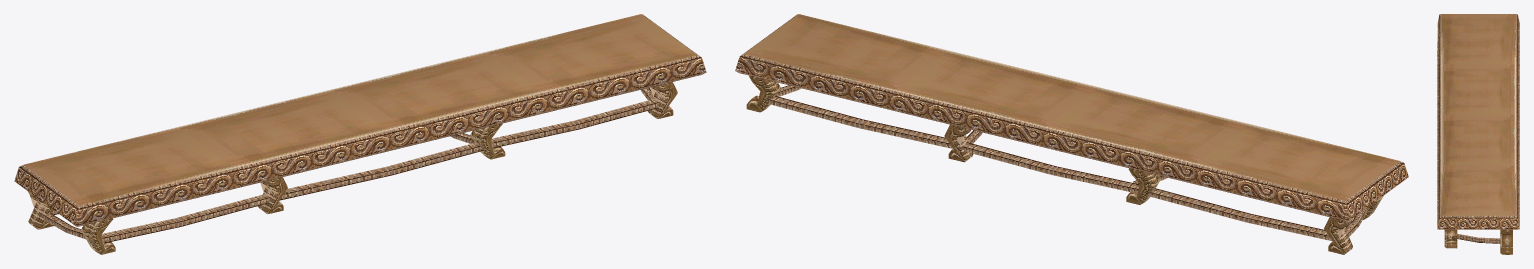
The model's file is tuku9.glb.
3 views of the same model, side by side, from view 1: azimuth 30°, elevation 25°; view 2: azimuth 150°, elevation 25°; view 3: azimuth 270°, elevation 25° (orthographic). The views are drawn at different scales.
Parts seen in each view (by area): view 1: tuku9; view 2: tuku9; view 3: tuku9.
Boxes of the visible parts, x1,y1,x2,y2 form: tuku9: (14,14,706,254); tuku9: (735,14,1408,254); tuku9: (1437,14,1519,254).
Bounding box in the file's own units: 1359 × 120 × 230.
5 materials, 5 textured.
